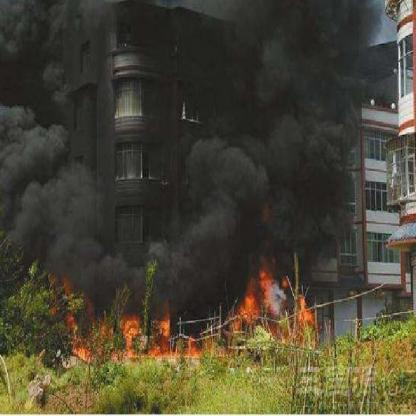fire: (56, 266, 320, 360)
smoke: (178, 13, 370, 279), (0, 11, 124, 298)
